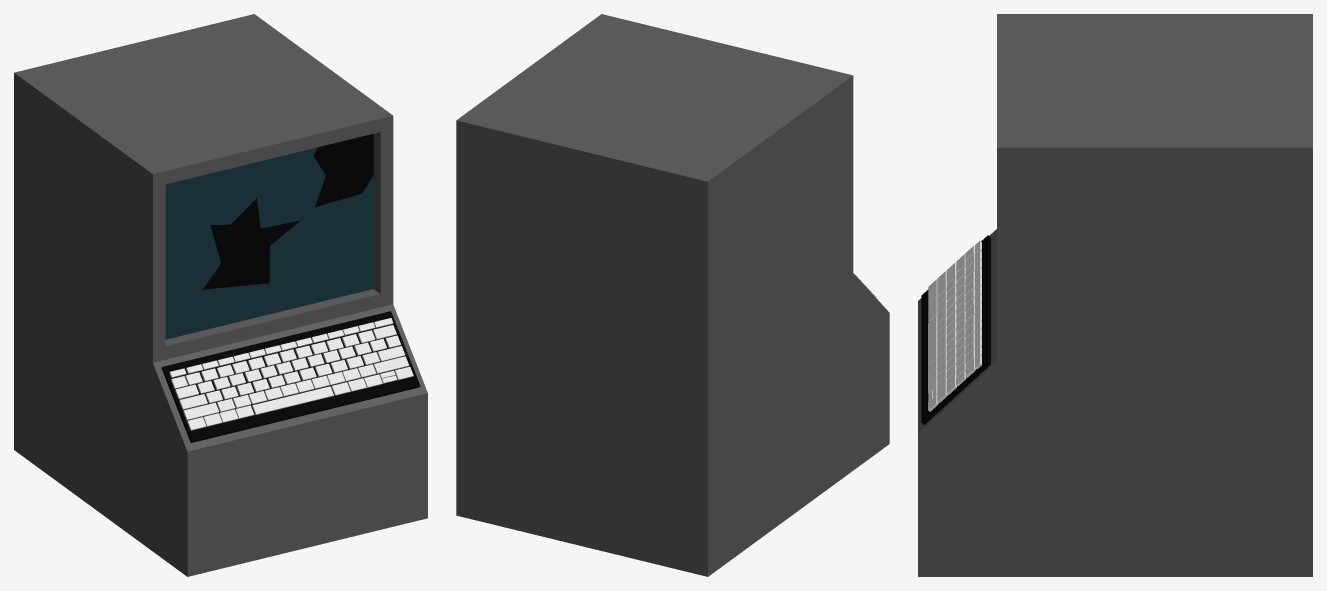
File: BrokenTechBlock2.fbx
3 views of the same model, side by side, from view 1: azimuth 30°, elevation 25°; view 2: azimuth 150°, elevation 25°; view 3: azimuth 270°, elevation 25° (orthographic). The views are drawn at different scales.
Parts seen in each view (by area): view 1: BrokenTechBlock; view 2: BrokenTechBlock; view 3: BrokenTechBlock.
Boxes of the visible parts, left/top/right/bottom form: BrokenTechBlock: left=14, top=14, right=427, bottom=576; BrokenTechBlock: left=456, top=14, right=889, bottom=576; BrokenTechBlock: left=918, top=14, right=1312, bottom=576.
Bounding box in the file's own units: 200 × 300 × 250.
